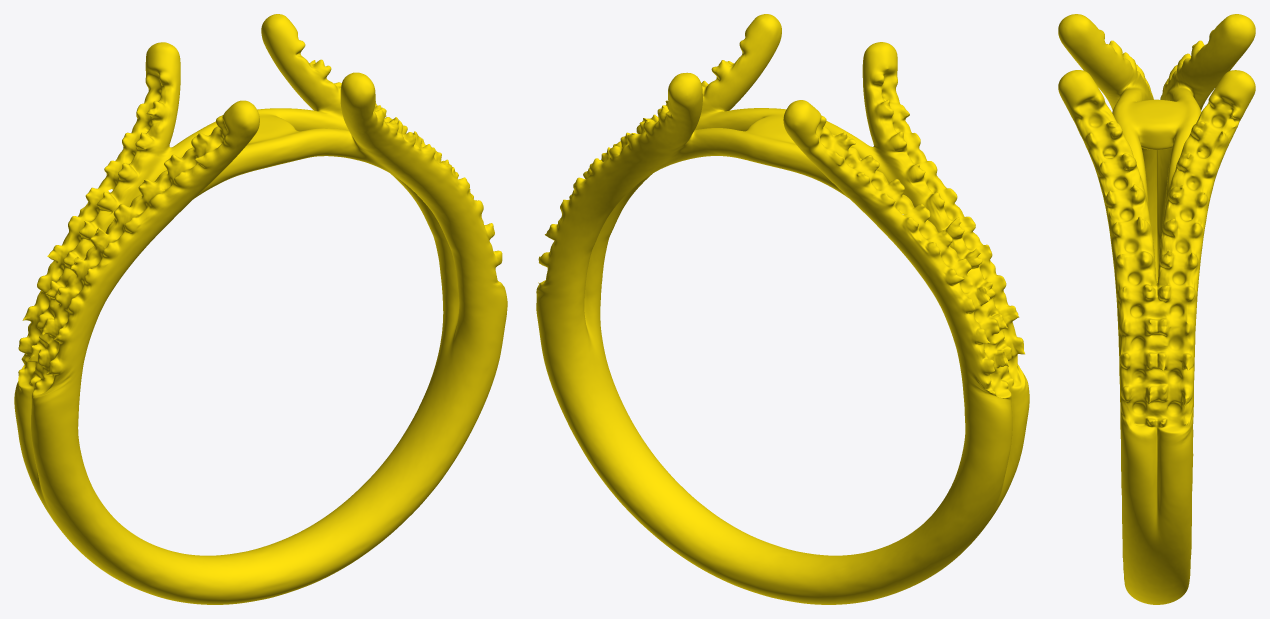
File: Shank_Two row split_French Pave_B_No, Hidden Halo_Band.glb
3 renders of one model, left to right at view 1: azimuth 30°, elevation 25°; view 2: azimuth 150°, elevation 25°; view 3: azimuth 270°, elevation 25°, orthographic.
Size of the model in its own units: 0.0212 by 0.023 by 0.00771.
